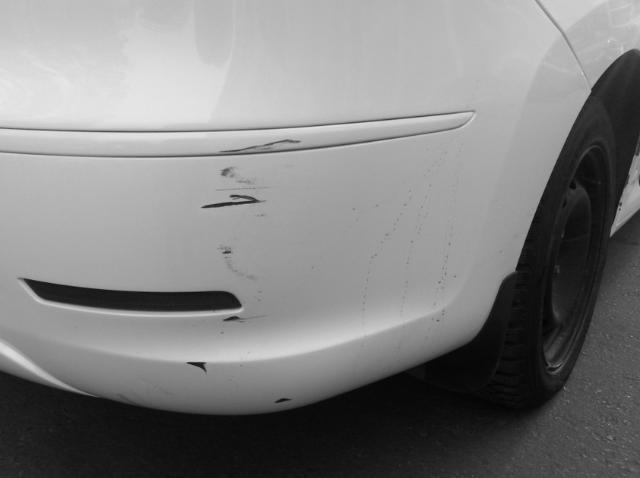Bumper: (152, 114, 322, 290)
